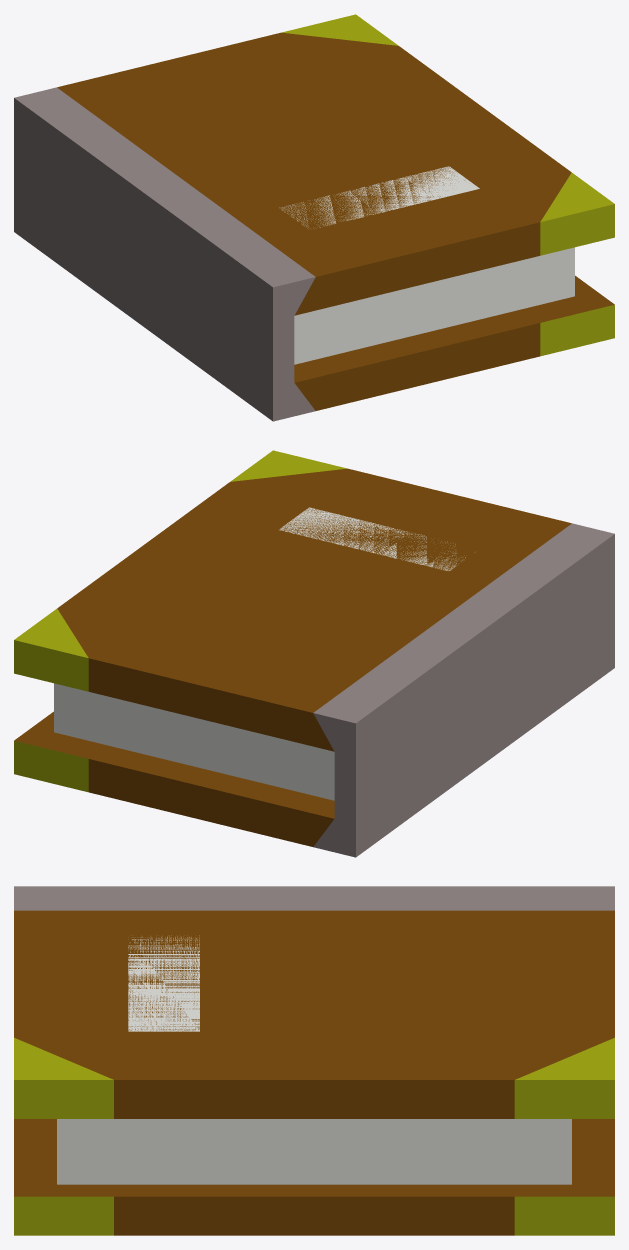
The model's file is inv_translation_book.obj.
3 renders of one model, top to bottom at view 1: azimuth 30°, elevation 25°; view 2: azimuth 150°, elevation 25°; view 3: azimuth 270°, elevation 25°, orthographic. The views are drawn at different scales.
Bounding box in the file's own units: 0.25 × 0.0938 × 0.3281.
